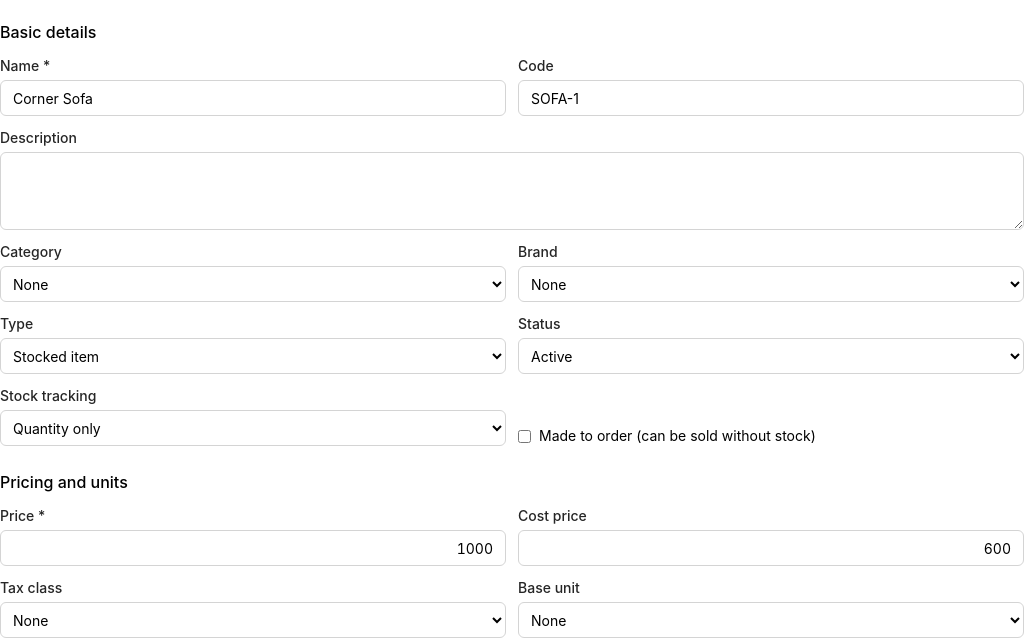
Test: ProductForm — edit › saves with the version it read, and shows a confirmation
This screenshot has width=1024, height=642.
Replace the text in the field labelled "Name *" with "Corner Sofa XL" at x=253, y=98, box left=0, top=80, right=506, bottom=116
(page scrolled)
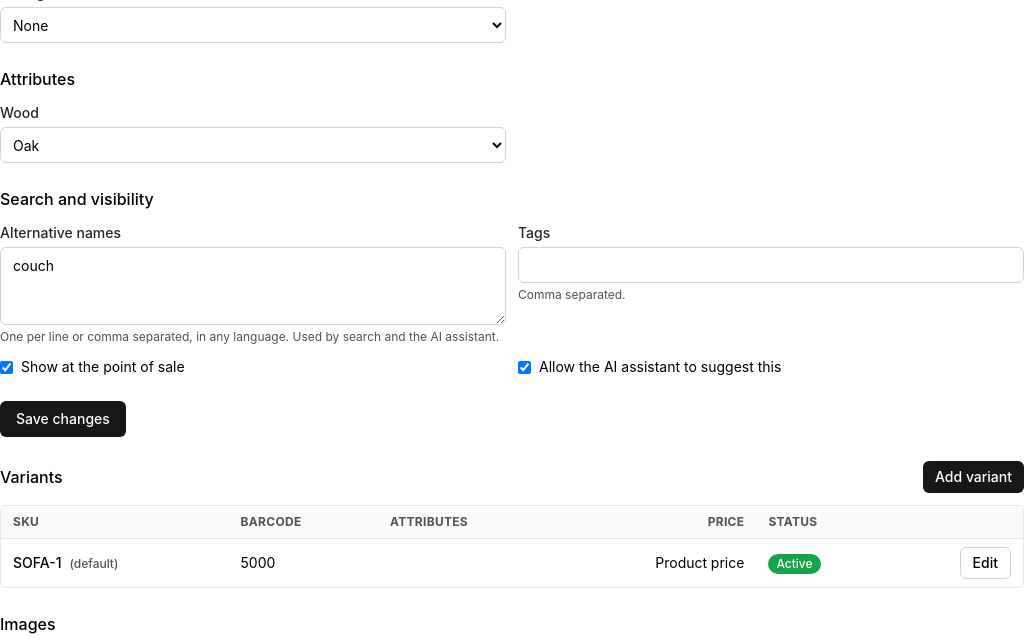
Click the button "Save changes" at x=63, y=419, box left=0, top=401, right=126, bottom=437
(page scrolled)
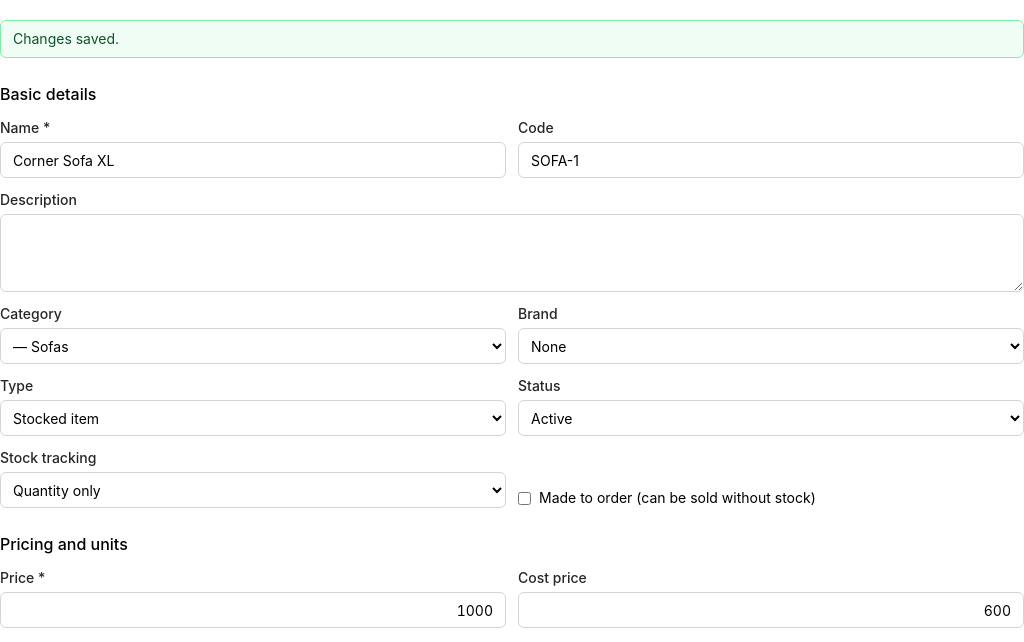
Check: the text "Changes saved." is shown, box left=0, top=20, right=1023, bottom=58
